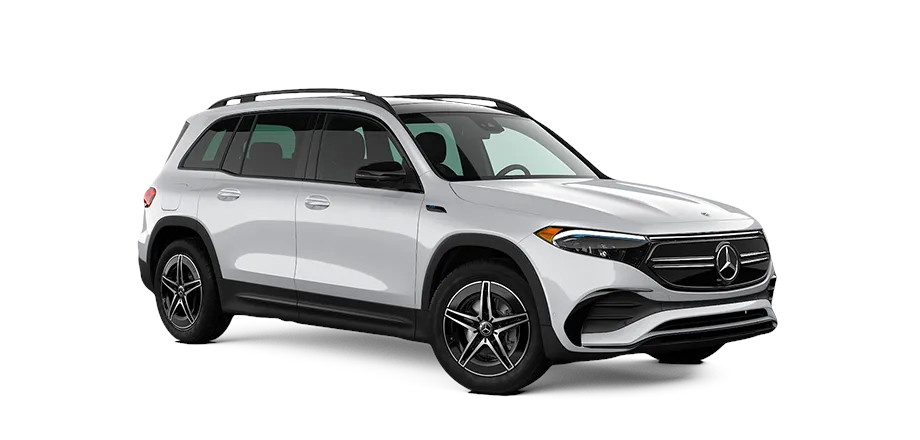car: (135, 87, 779, 395)
